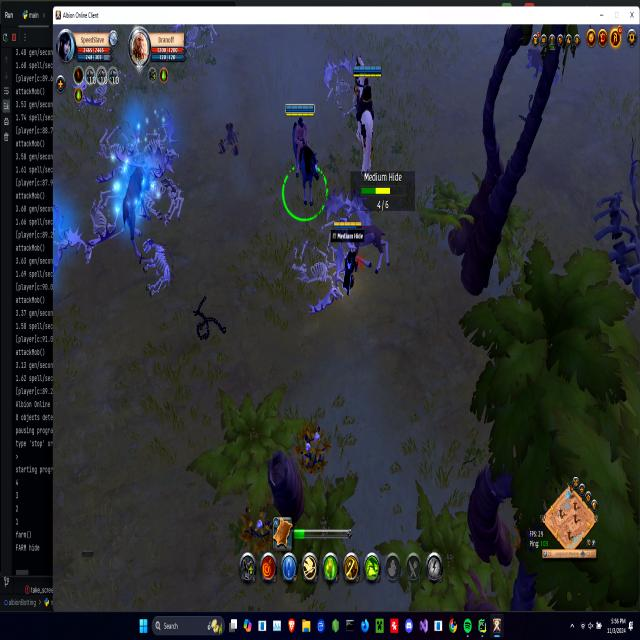hide: (240, 498, 272, 553), (296, 422, 330, 472)
mob: (349, 216, 393, 275)
ore: (118, 149, 159, 258), (525, 48, 560, 85)
red: (345, 55, 384, 171), (285, 98, 320, 185), (335, 221, 363, 294)
